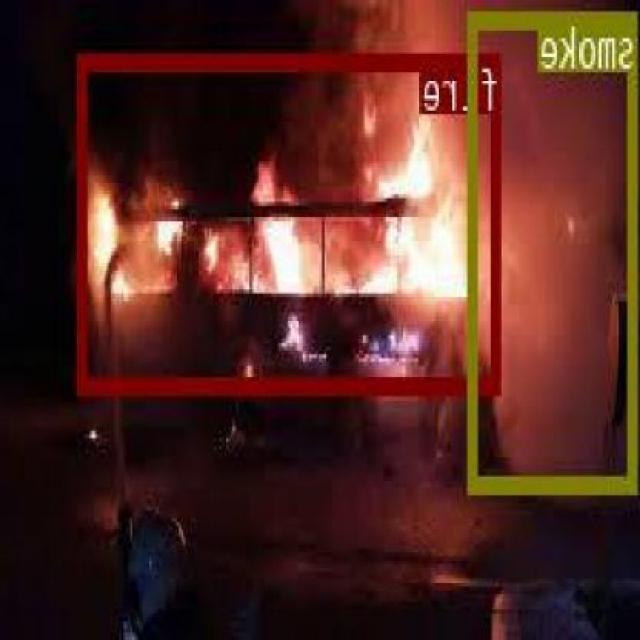Fire: (45, 110, 513, 327)
Smoke: (58, 0, 366, 262), (483, 0, 640, 482)
